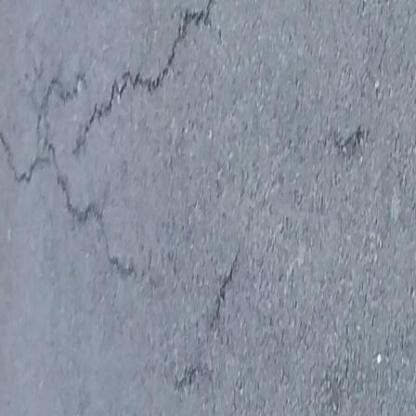Cracks: (28, 130, 201, 321), (61, 0, 231, 160), (4, 56, 106, 209), (166, 225, 244, 403), (309, 105, 385, 175)
